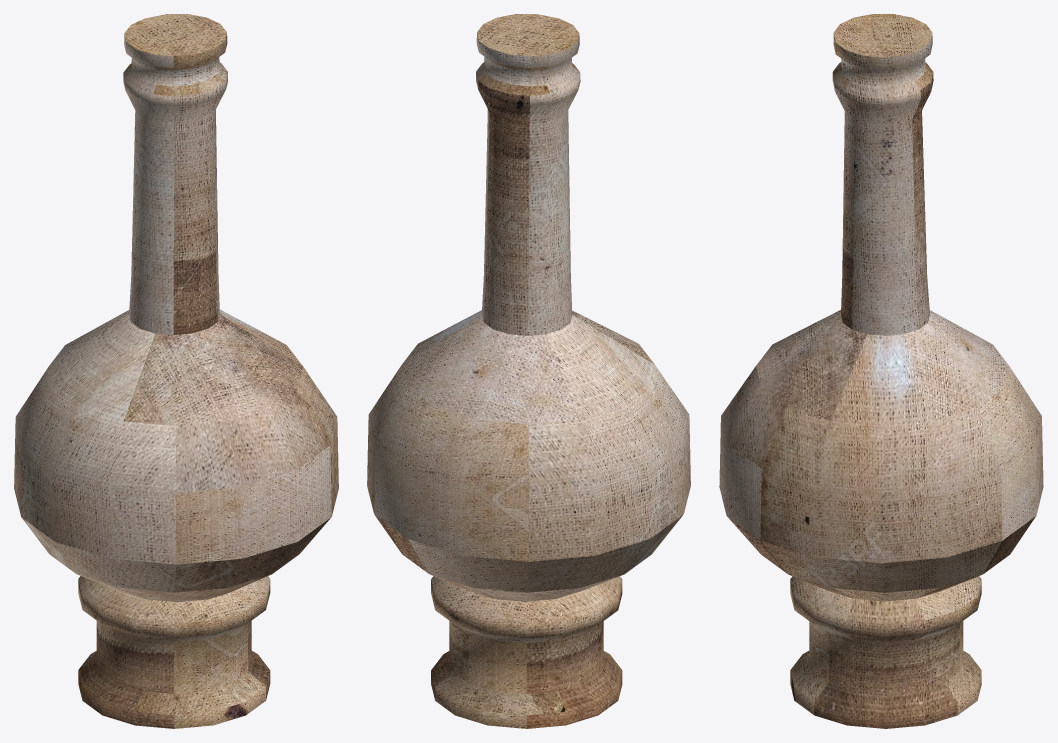
File: kabin.fbx
The picture shows the model from 3 angles, left to right: view 1: azimuth 30°, elevation 25°; view 2: azimuth 150°, elevation 25°; view 3: azimuth 270°, elevation 25°; orthographic projection.
Visible parts, largest first — view 1: pCylinder1; view 2: pCylinder1; view 3: pCylinder1.
Boxes of the visible parts, x1=… form: pCylinder1: x1=14, y1=14, x2=338, y2=728; pCylinder1: x1=367, y1=14, x2=690, y2=728; pCylinder1: x1=719, y1=14, x2=1043, y2=728.
Bounding box in the file's own units: 6.38 × 14.25 × 6.41.
1 material, 1 textured.
